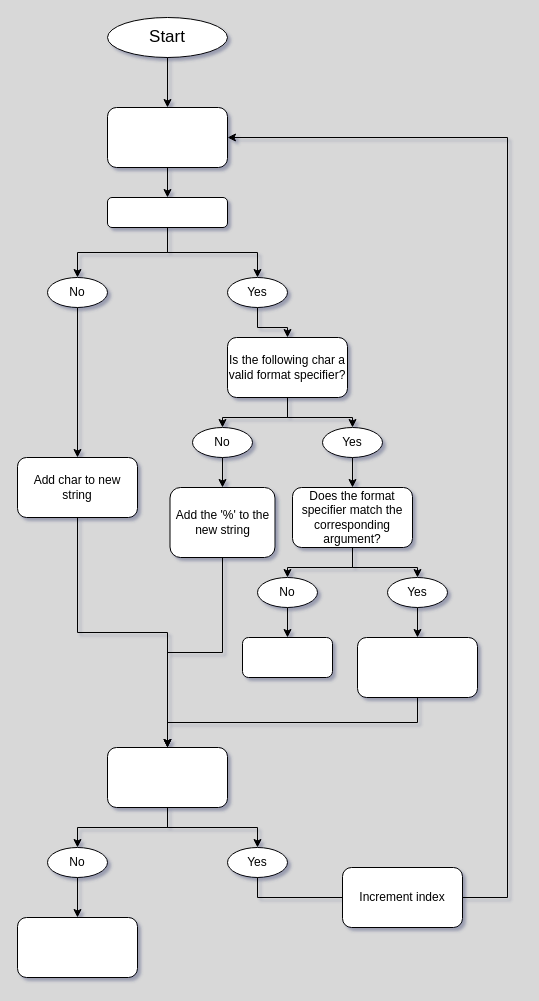
Some shapes in this 539 by 1001 pixel diagram are drawn without their labels. Here are the shapes that lost their labels. From the top down, the centre of each, then its label:
pixel 167 137: Read char at index value
pixel 167 212: Is char a '%'?
pixel 287 657: Throw error
pixel 417 667: Add the value of the argument to the new string
pixel 167 777: Are there any more characters?
pixel 77 947: Print new string
